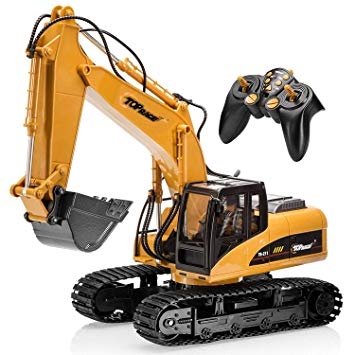backhoe: (22, 5, 346, 335)
